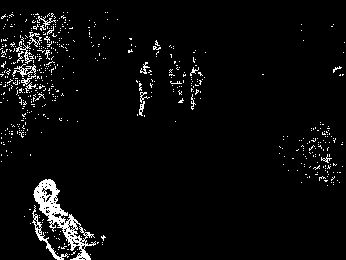person: (30, 178, 106, 259), (134, 58, 155, 118), (167, 59, 185, 102), (189, 64, 205, 111)
